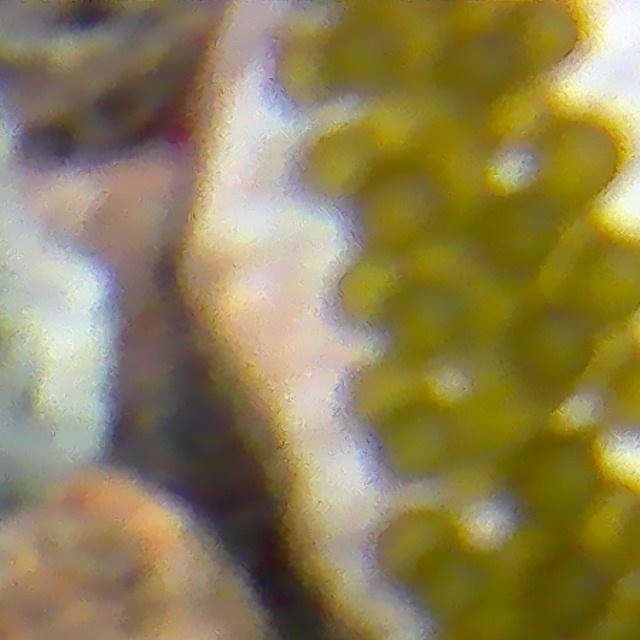SeaGrape: (519, 118, 619, 214), (510, 435, 596, 524), (474, 193, 557, 275), (430, 37, 516, 113), (358, 173, 445, 248), (386, 284, 466, 365), (322, 27, 401, 104), (532, 554, 609, 632), (377, 406, 456, 480), (522, 312, 597, 389), (572, 242, 640, 326), (413, 545, 487, 620), (459, 268, 533, 343), (377, 510, 453, 583), (576, 485, 640, 571), (335, 251, 407, 326), (304, 129, 377, 202), (361, 91, 431, 165), (515, 0, 586, 72), (351, 363, 428, 425), (406, 231, 476, 296), (277, 29, 334, 108), (487, 85, 545, 143), (588, 325, 640, 379), (467, 597, 531, 640)
